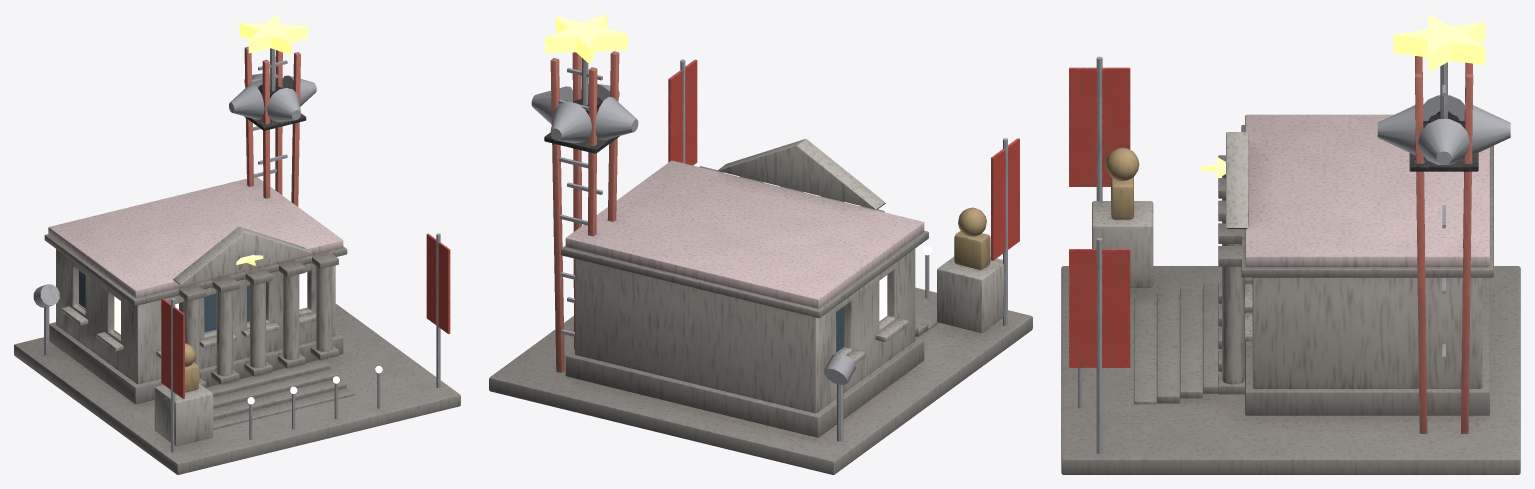
File: red_tech.glb
The picture shows the model from 3 angles, left to right: view 1: azimuth 30°, elevation 25°; view 2: azimuth 150°, elevation 25°; view 3: azimuth 270°, elevation 25°; orthographic projection. The views are drawn at different scales.
Parts seen in each view (by area): view 1: Hull, Spin; view 2: Hull, Spin; view 3: Hull, Spin.
Boxes of the visible parts, <box> form: Hull: <box>14,14,460,474</box>; Spin: <box>229,73,316,121</box>; Hull: <box>489,14,1032,474</box>; Spin: <box>531,84,638,143</box>; Hull: <box>1061,14,1520,474</box>; Spin: <box>1377,95,1510,164</box>.
Bounding box in the file's own units: 6 × 5.85 × 6.
Materials: 14 (12 with a texture image).
